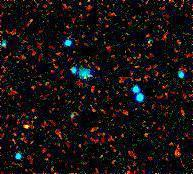star: (10, 109, 40, 139)
